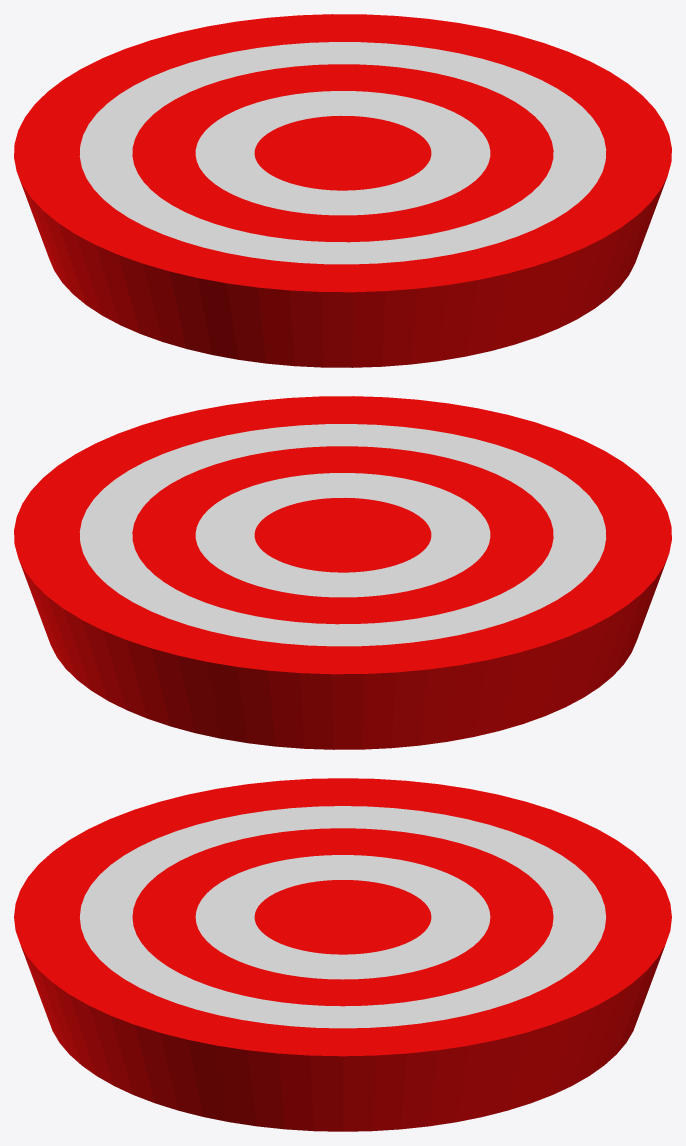
File: Board_Red.fbx
3 views of the same model, one above another, from view 1: azimuth 30°, elevation 25°; view 2: azimuth 150°, elevation 25°; view 3: azimuth 270°, elevation 25° (orthographic).
Visible parts, largest first — view 1: Board_Red; view 2: Board_Red; view 3: Board_Red.
Boxes of the visible parts, x1,y1,x2,y2 form: Board_Red: (14,14,671,367); Board_Red: (14,396,671,749); Board_Red: (14,778,671,1131).
Bounding box in the file's own units: 200 × 30 × 200.
